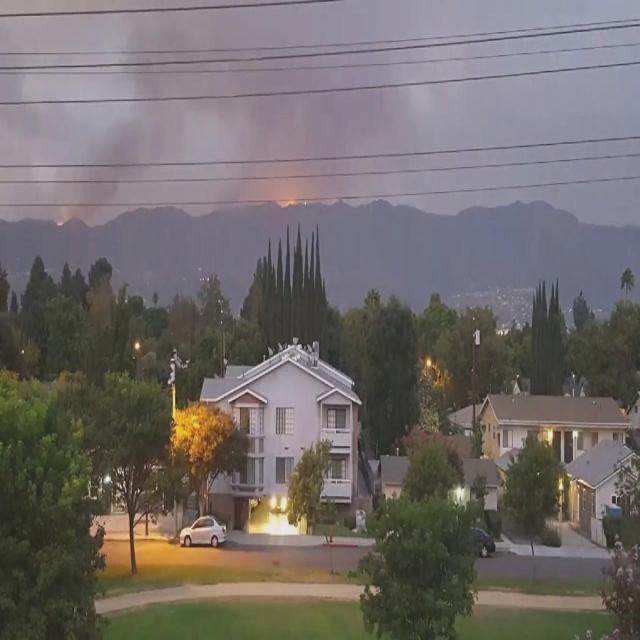Fire: (280, 198, 295, 209)
